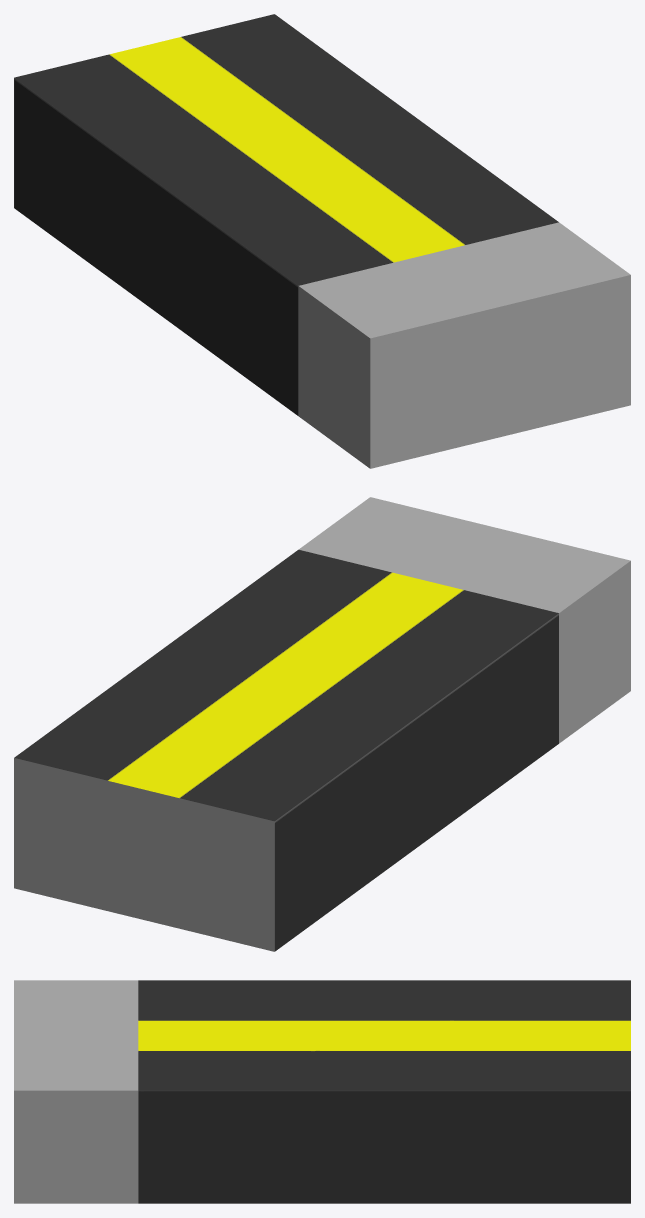
Rendered from enemy_eraser_03.glb.
The picture shows the model from 3 angles, top to bottom: view 1: azimuth 30°, elevation 25°; view 2: azimuth 150°, elevation 25°; view 3: azimuth 270°, elevation 25°; orthographic projection. The views are drawn at different scales.
Parts seen in each view (by area): view 1: obj1; view 2: obj1; view 3: obj1.
Part boxes in pixels (x1,y1,x2,y2): obj1: (14,14,630,468); obj1: (14,497,630,951); obj1: (14,980,630,1203).
Size of the model in its own units: 2.3 by 1.1 by 5.45.
1 material, 1 textured.
